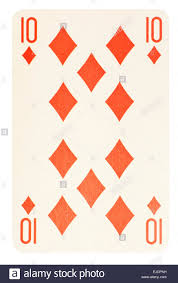ten of diamonds: (14, 10, 169, 253)
